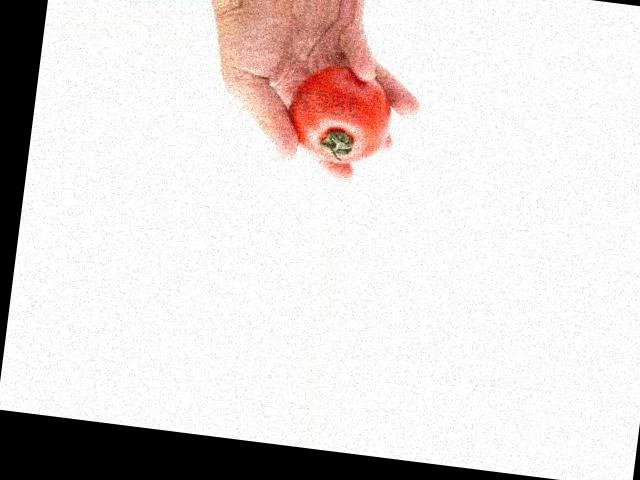tomato: (284, 60, 397, 169)
